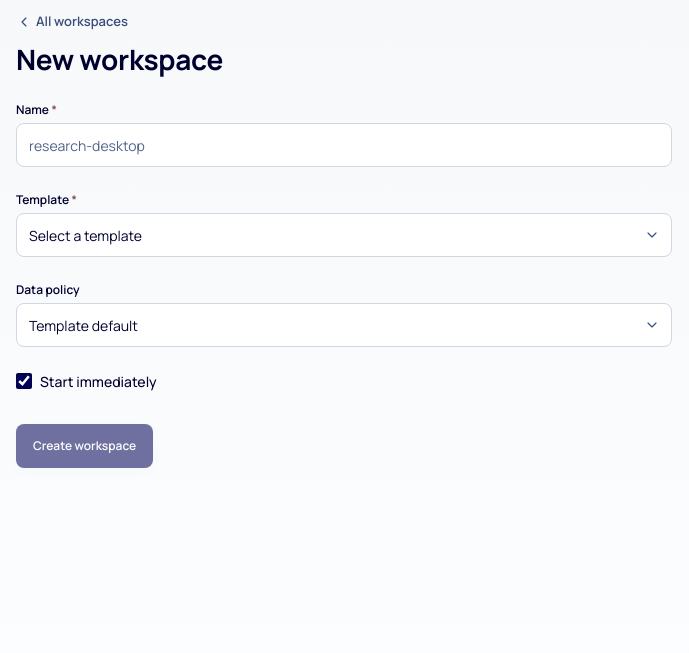
Test: CreateWorkspacePage › create: release-pending quota refusal shows the transient copy
Type "my-box" into the field labelled "Name *" at coordinates (344, 145), box x1=16 y1=123 x2=672 y2=167
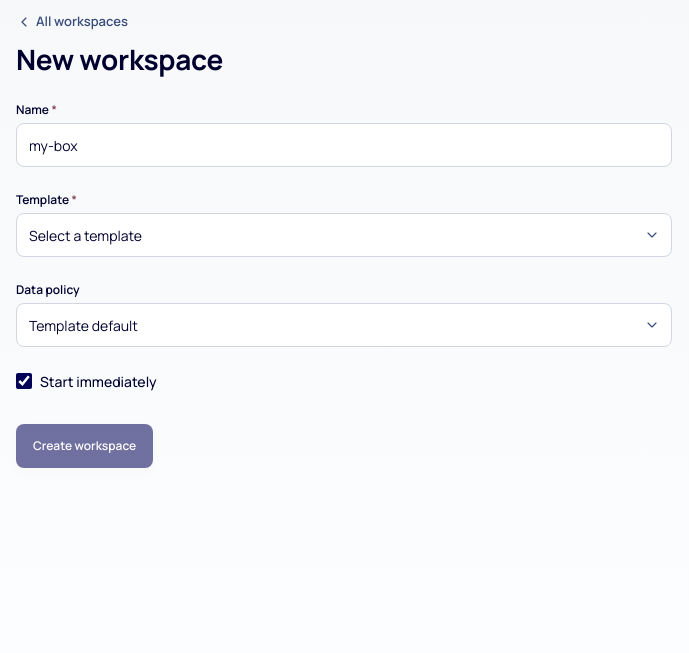
Select "linux-firefox-desktop (rev 7, Linux container)" in the dropdown labelled "Template *" at coordinates (344, 235), box x1=16 y1=213 x2=672 y2=257
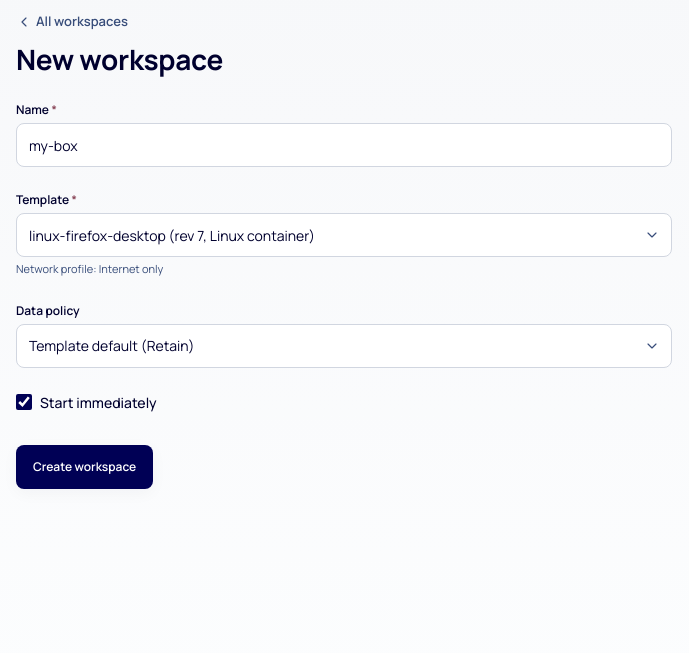
Click the button "Create workspace" at coordinates (85, 466), box x1=16 y1=444 x2=153 y2=488
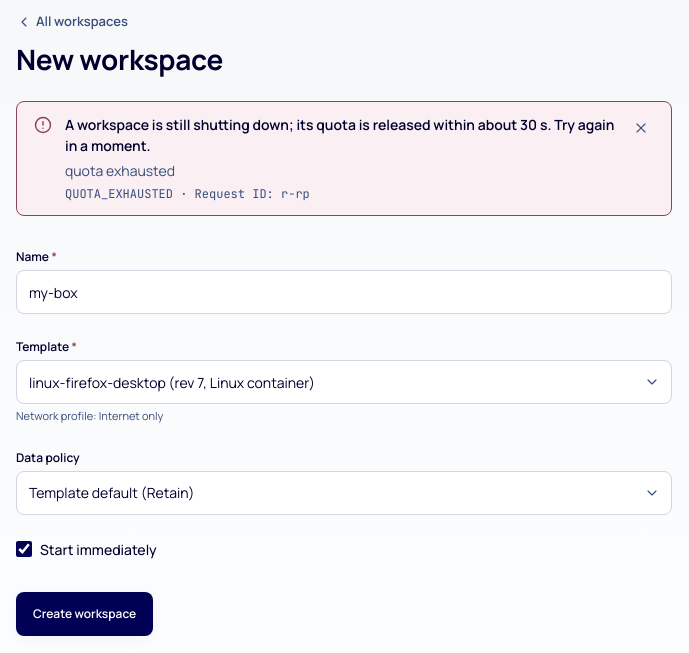
Expected: the message does not show "delete an unused workspace", x1=16 y1=101 x2=672 y2=216
Now the message shows "QUOTA_EXHAUSTED", box x1=65 y1=186 x2=310 y2=202
Now the message shows "A workspace is still shutting down; its quota is released within about 30 s. Try again in a moment.", box x1=65 y1=115 x2=614 y2=155
